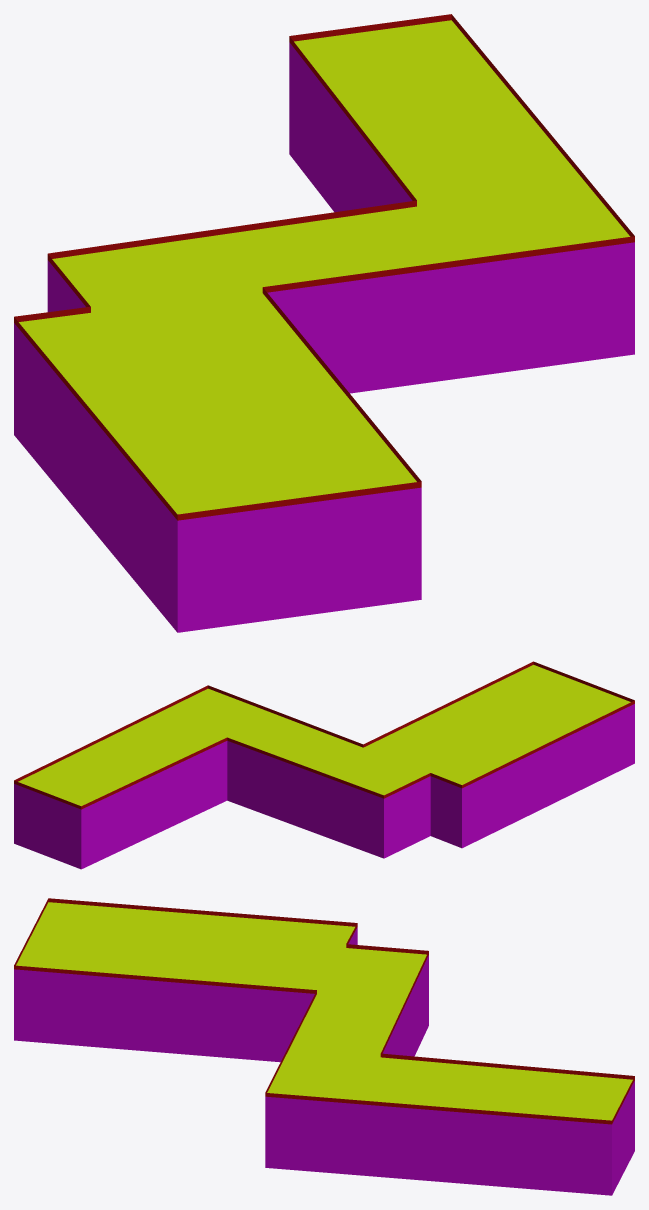
The model's file is scl_96.glb.
3 renders of one model, top to bottom at view 1: azimuth 30°, elevation 25°; view 2: azimuth 150°, elevation 25°; view 3: azimuth 270°, elevation 25°, orthographic. The views are drawn at different scales.
Parts seen in each view (by area): view 1: scl_96; view 2: scl_96; view 3: scl_96.
Part boxes in pixels (<box>): scl_96: <box>14,14,634,632</box>; scl_96: <box>14,661,634,869</box>; scl_96: <box>14,898,634,1195</box>.
Bounding box in the file's own units: 43.03 × 6.77 × 50.78.
